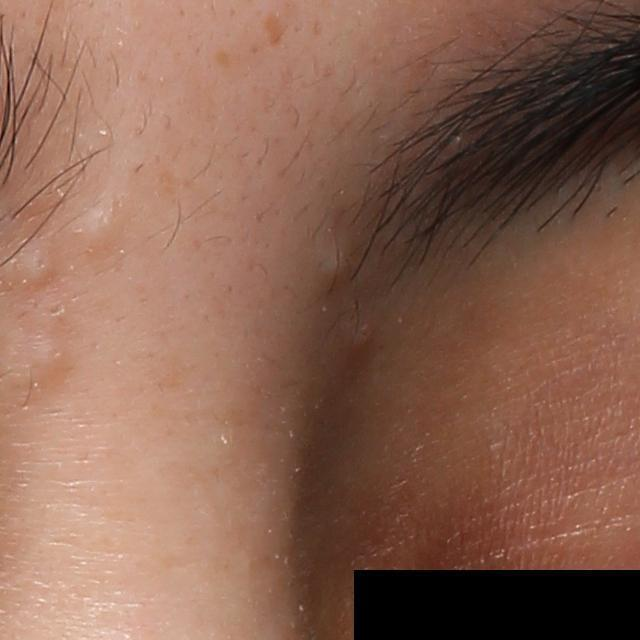comedo: (24, 329, 69, 378), (73, 207, 118, 250), (20, 239, 56, 284)
